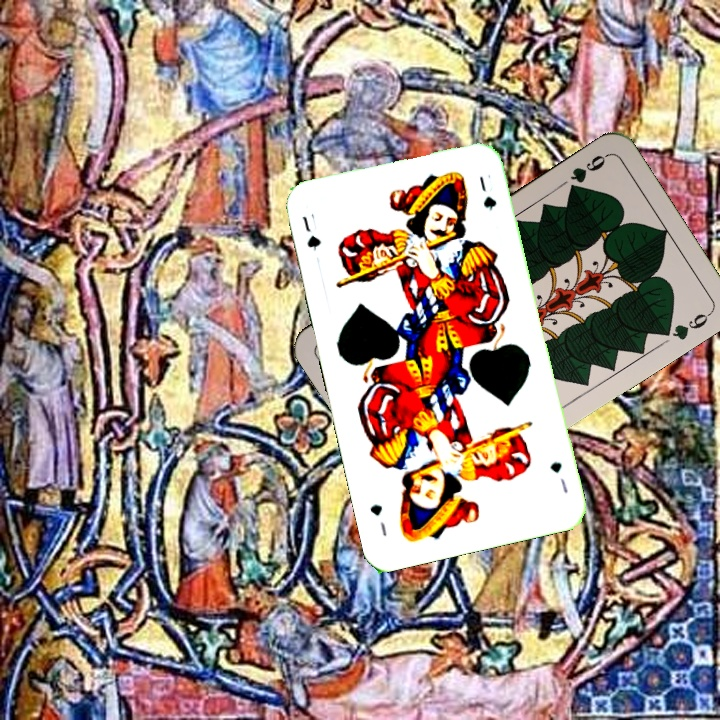G9: (564, 150, 611, 196)
GU: (298, 209, 323, 253), (546, 457, 571, 496)
